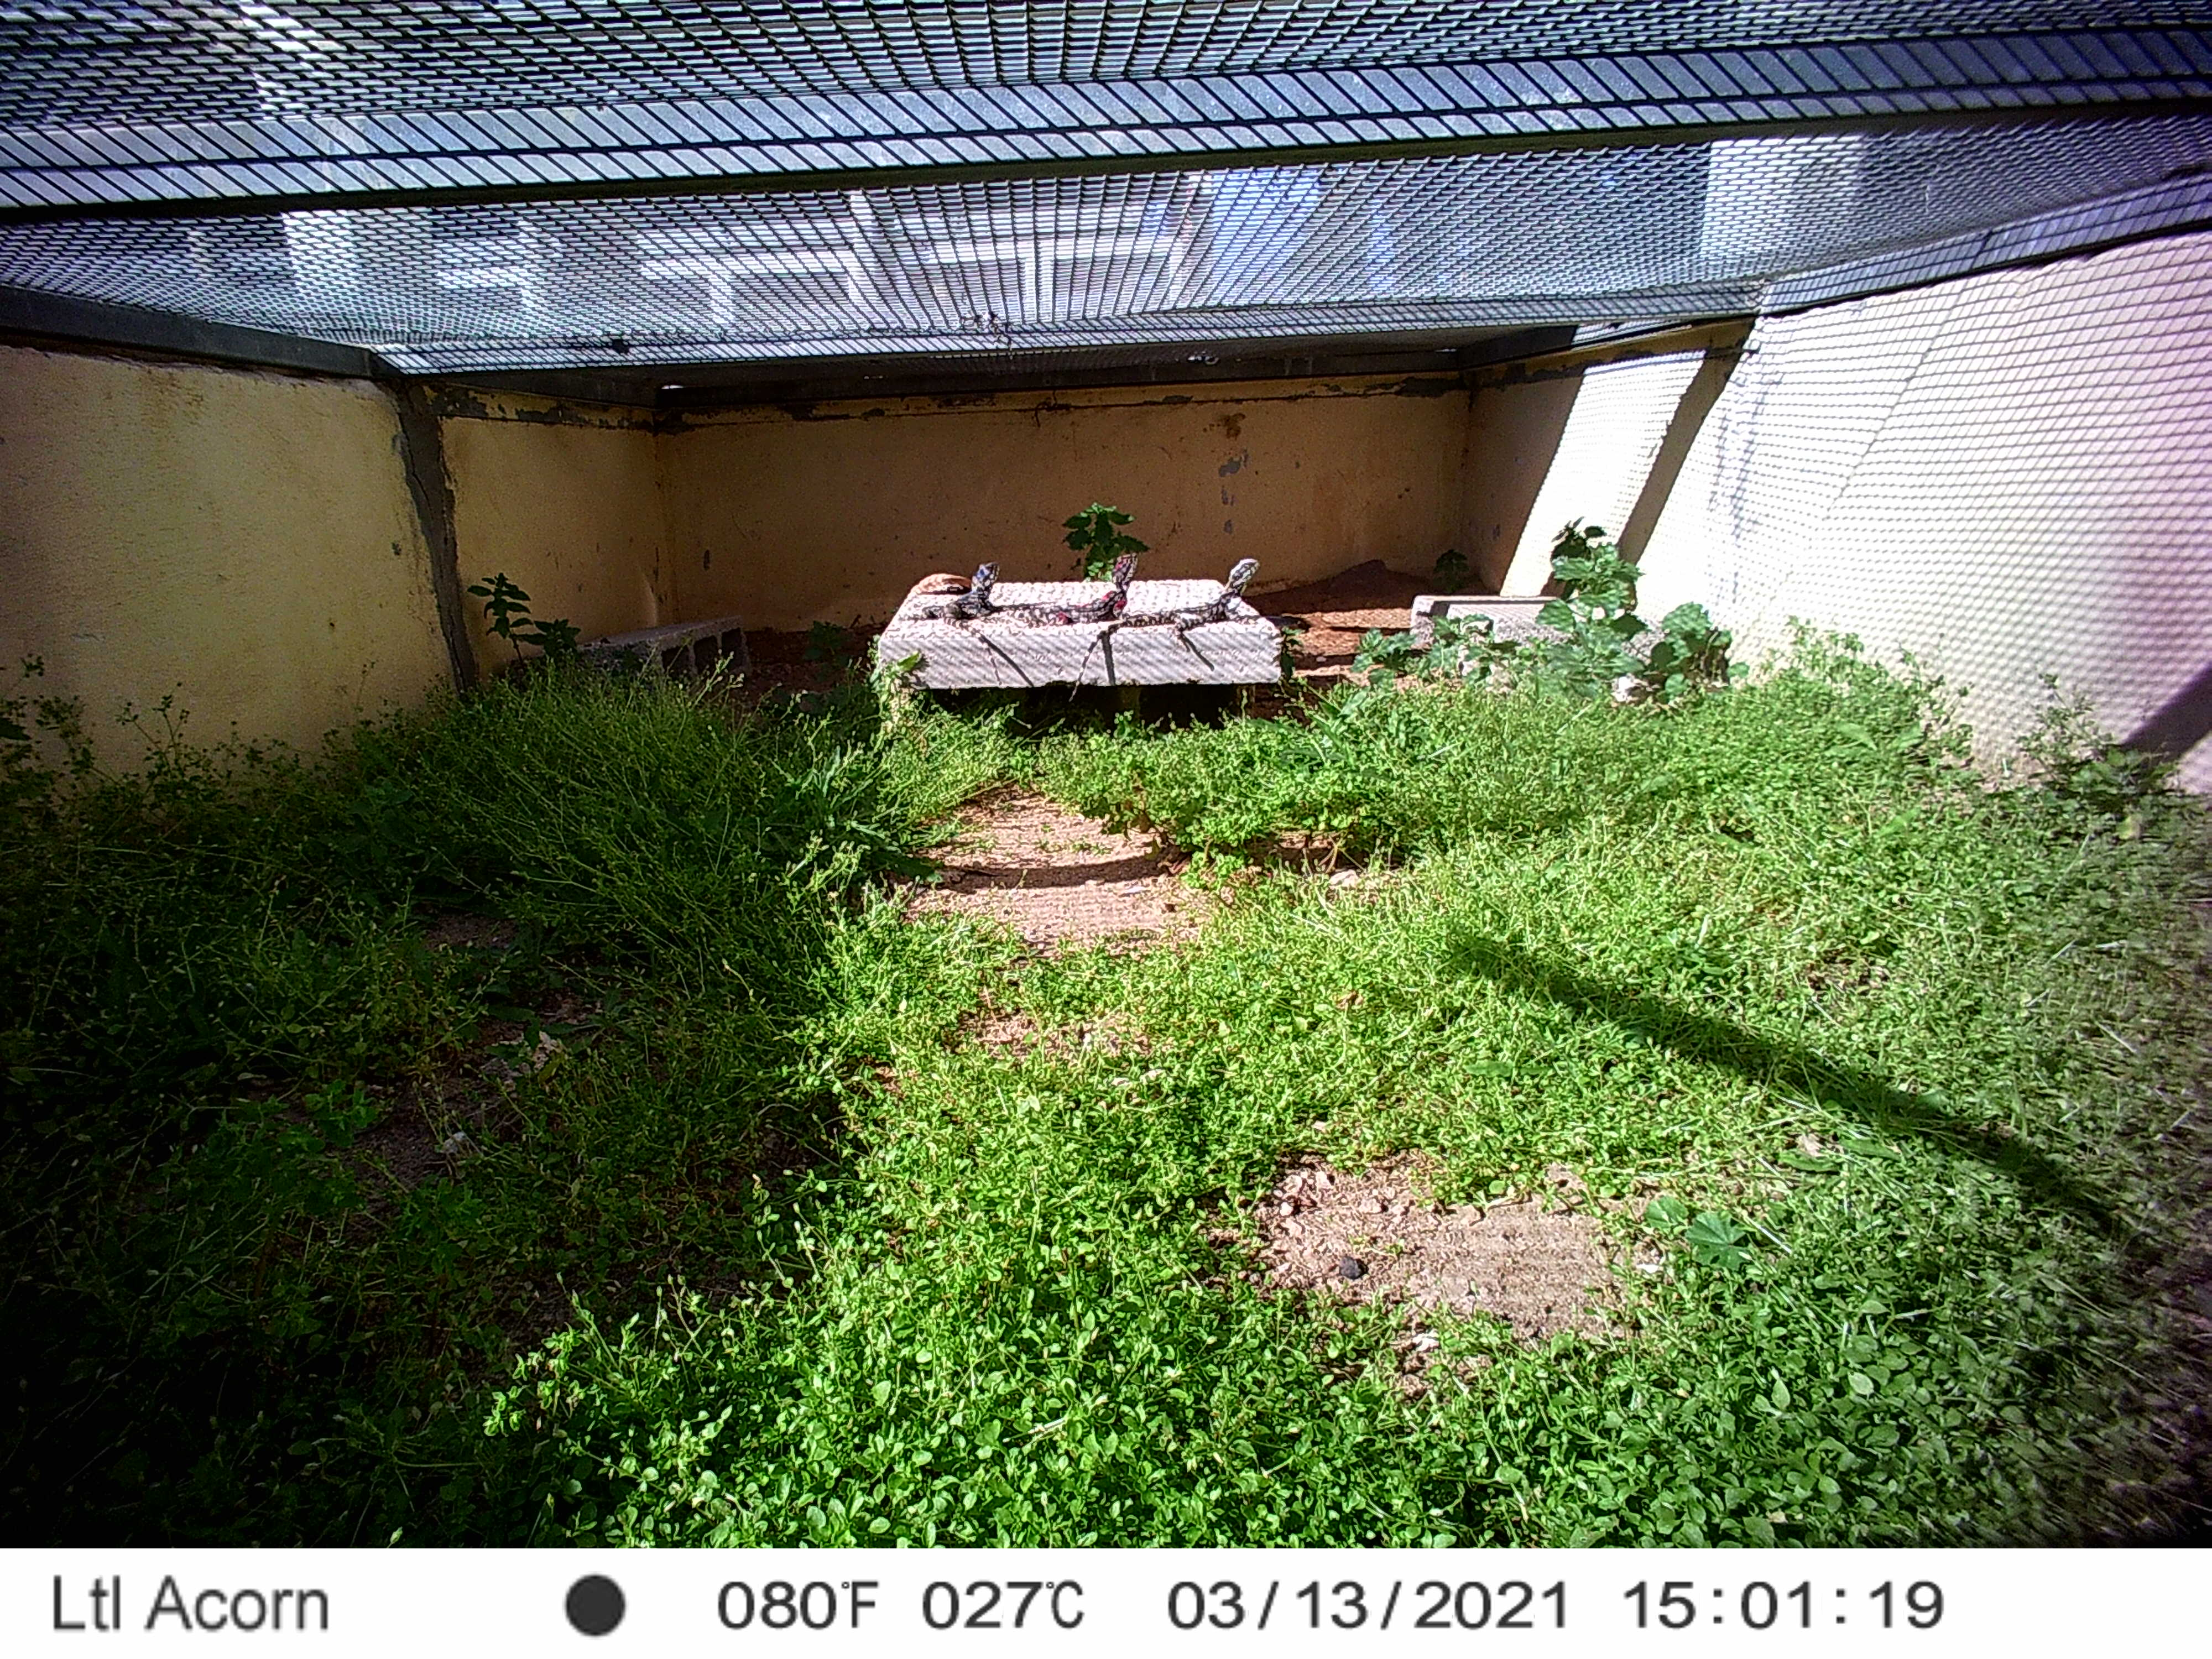lizard: (1125, 559, 1263, 652), (906, 561, 1012, 659), (1007, 554, 1139, 627)
